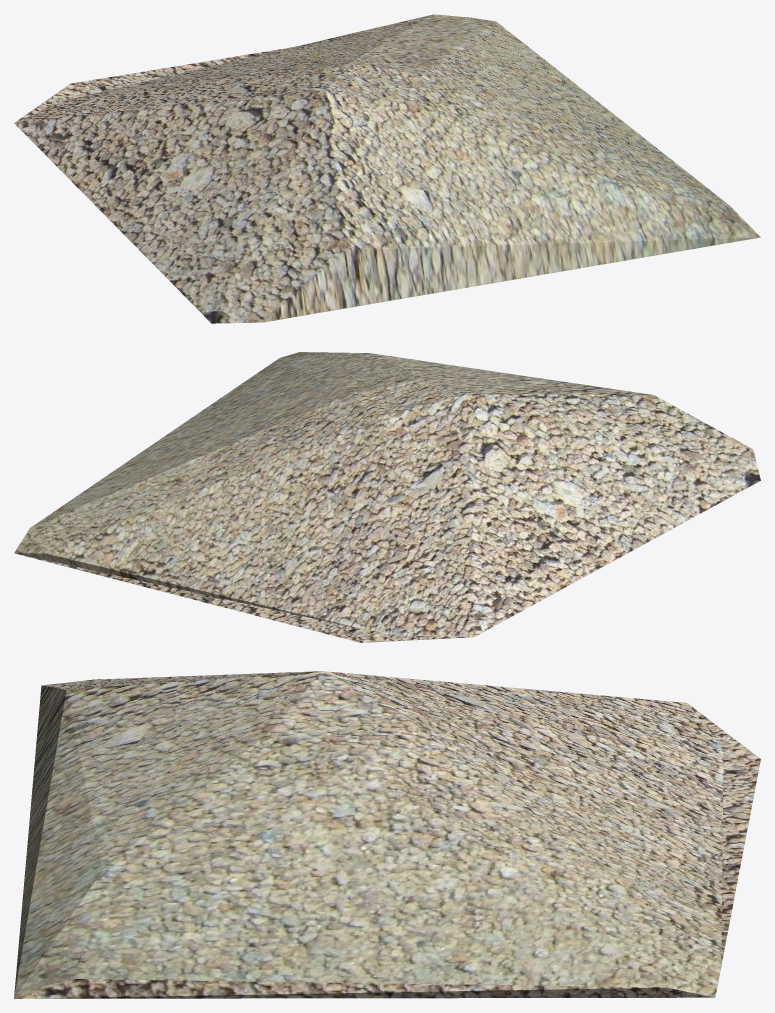
Rendered from piedrassuetas.fbx.
3 views of the same model, one above another, from view 1: azimuth 30°, elevation 25°; view 2: azimuth 150°, elevation 25°; view 3: azimuth 270°, elevation 25° (orthographic). The views are drawn at different scales.
Parts seen in each view (by area): view 1: Cube; view 2: Cube; view 3: Cube.
Part boxes in pixels (x1,y1,x2,y2): Cube: [14, 14, 760, 323]; Cube: [14, 352, 760, 642]; Cube: [14, 671, 760, 998].
Size of the model in its own units: 373 by 85.05 by 385.
1 material, 1 textured.
